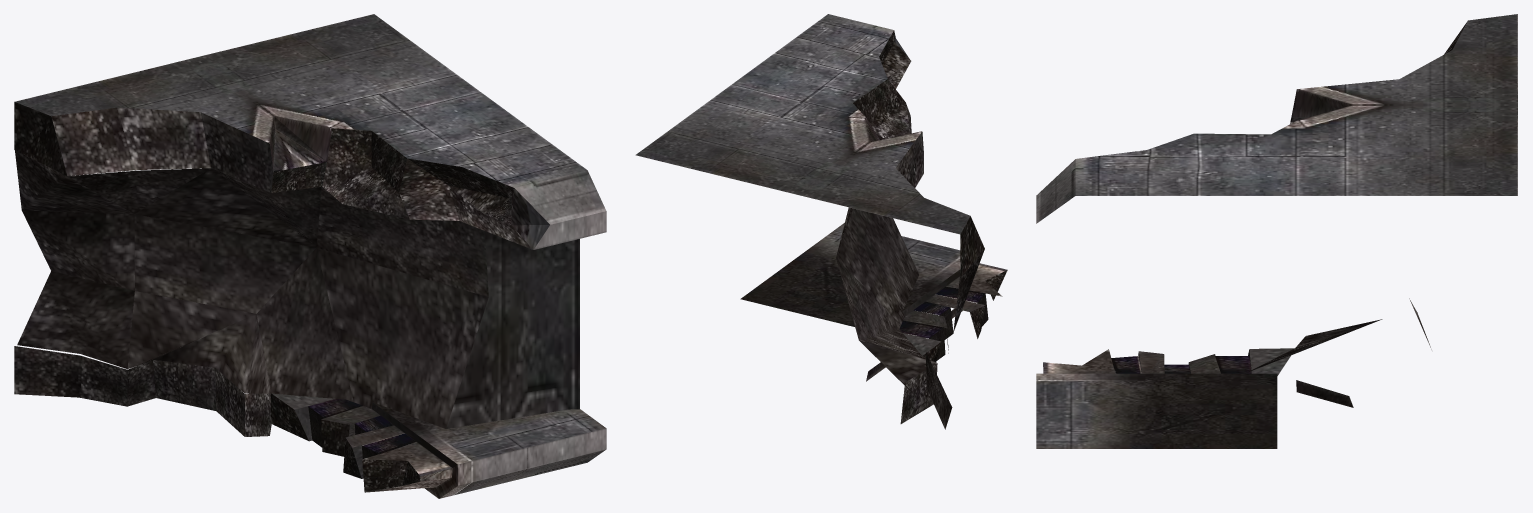
3 views of the same model, side by side, from view 1: azimuth 30°, elevation 25°; view 2: azimuth 150°, elevation 25°; view 3: azimuth 270°, elevation 25° (orthographic). The views are drawn at different scales.
Parts seen in each view (by area): view 1: model_Object25; view 2: model_Object25; view 3: model_Object25.
Part boxes in pixels (bbox=[...]): model_Object25: bbox=[14, 14, 606, 498]; model_Object25: bbox=[635, 14, 1007, 429]; model_Object25: bbox=[1036, 14, 1517, 448].
Bounding box in the file's own units: 2.15 × 1.67 × 2.41.
2 materials, 2 textured.
